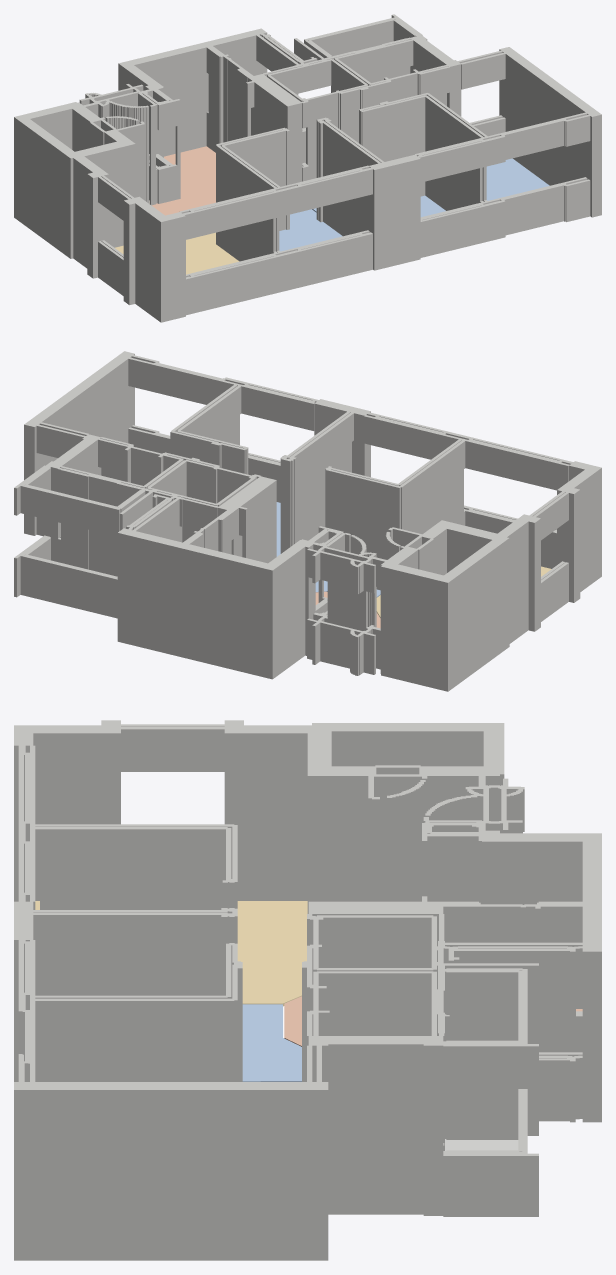
3 views of the same model, one above another, from view 1: azimuth 30°, elevation 25°; view 2: azimuth 150°, elevation 25°; view 3: azimuth 270°, elevation 25° (orthographic). The views are drawn at different scales.
Parts seen in each view (by area): view 1: walls, room:kitchen:0, room:bedroom:9, room:bedroom:7, room:living:6; view 2: walls; view 3: walls, room:living:6, room:bedroom:7, room:ledge:3, room:kitchen:0.
Part boxes in pixels (x1=…): walls: x1=14, y1=14, x2=601, y2=322; room:kitchen:0: x1=151, y1=146, x2=215, y2=215; room:bedroom:9: x1=486, y1=158, x2=549, y2=200; room:bedroom:7: x1=279, y1=209, x2=342, y2=251; room:living:6: x1=115, y1=232, x2=239, y2=274; walls: x1=14, y1=351, x2=601, y2=691; walls: x1=14, y1=720, x2=601, y2=1260; room:living:6: x1=35, y1=901, x2=307, y2=1006; room:bedroom:7: x1=242, y1=1004, x2=301, y2=1081; room:ledge:3: x1=445, y1=1139, x2=518, y2=1150; room:kitchen:0: x1=284, y1=996, x2=582, y2=1046.
Size of the model in its own units: 13.02 by 2.8 by 8.75.
